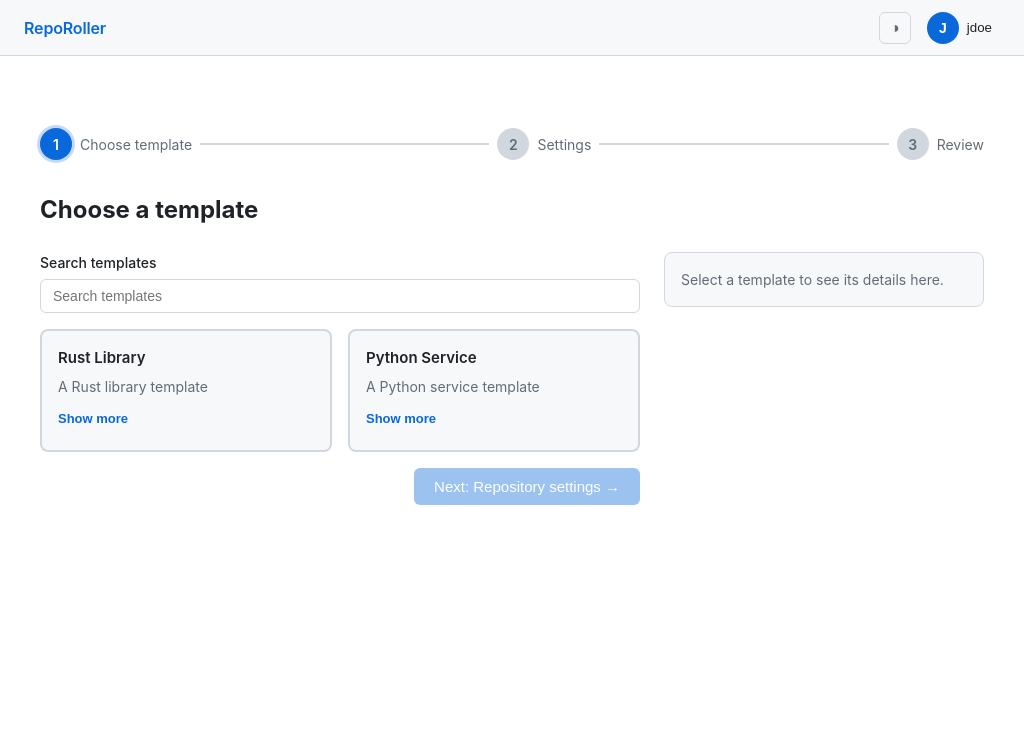
Test: Create wizard (SCR-004) › shows "Repository settings" heading after advancing to step 2
Click the radio button with aria-label "rust-library".
click(186, 390)  # box [40,329,332,452]
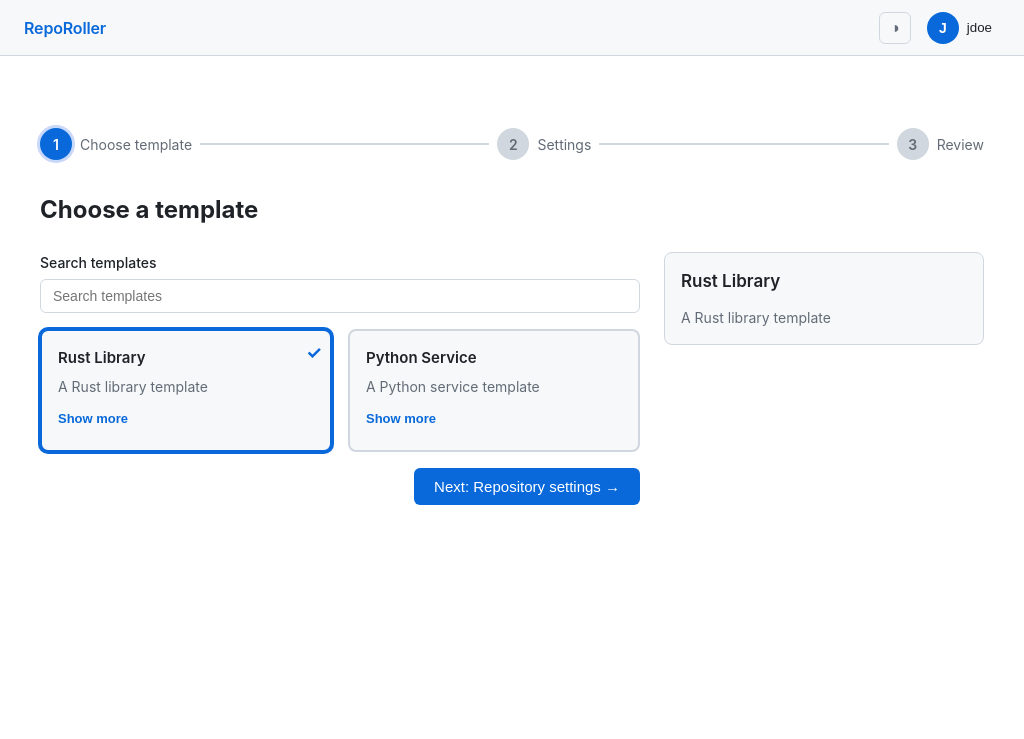
Now the button "Next: Repository settings →" is enabled
Click the button "Next: Repository settings →".
click(527, 486)  # box [414,468,640,504]
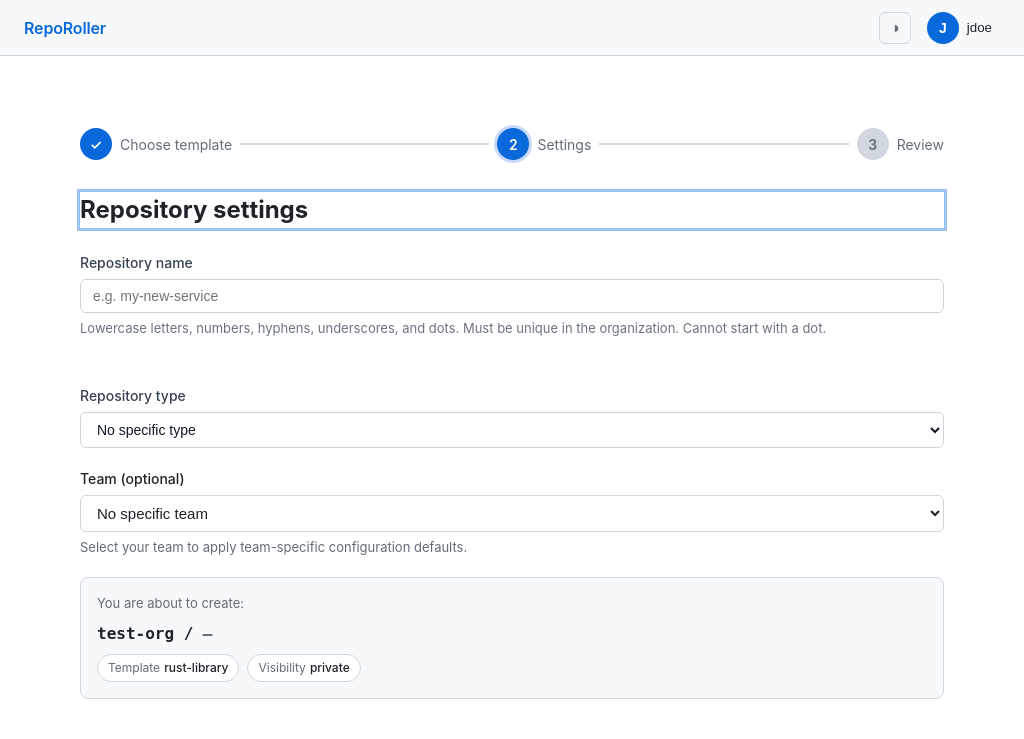
Now the heading reads "Repository settings", box [80,195,308,224]
